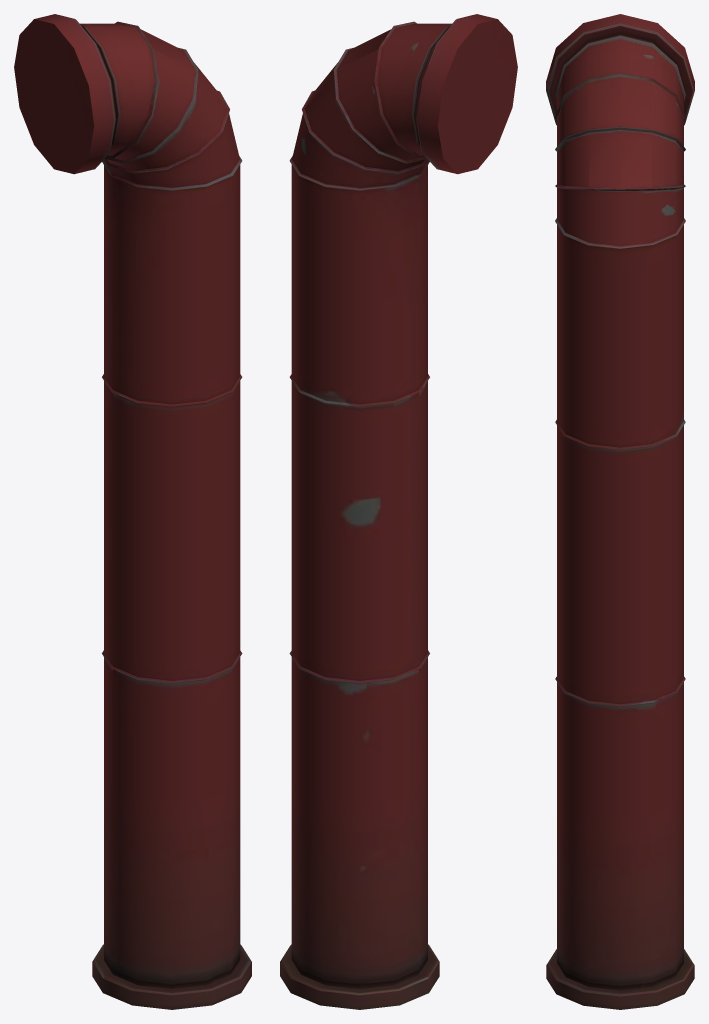
3 views of the same model, side by side, from view 1: azimuth 30°, elevation 25°; view 2: azimuth 150°, elevation 25°; view 3: azimuth 270°, elevation 25° (orthographic). The views are drawn at different scales.
Visible parts, largest first — view 1: body0_model0_lod0_mesh0; view 2: body0_model0_lod0_mesh0; view 3: body0_model0_lod0_mesh0.
Part boxes in pixels (<box>): body0_model0_lod0_mesh0: <box>14,14,251,1009</box>; body0_model0_lod0_mesh0: <box>280,14,517,1009</box>; body0_model0_lod0_mesh0: <box>546,14,694,1009</box>.
Size of the model in its own units: 101 by 508 by 75.16.
Materials: 1 (1 with a texture image).
